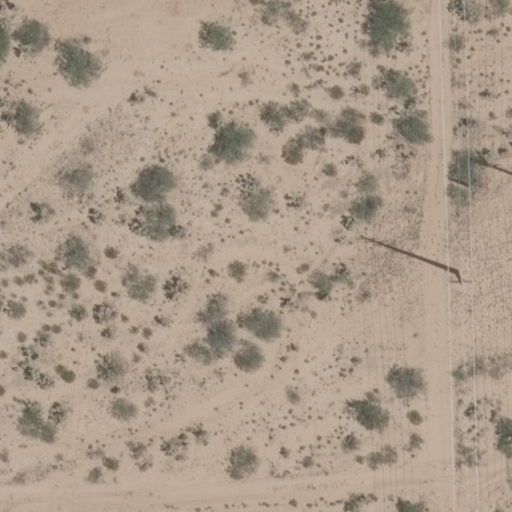DT: (448, 267, 476, 291)
